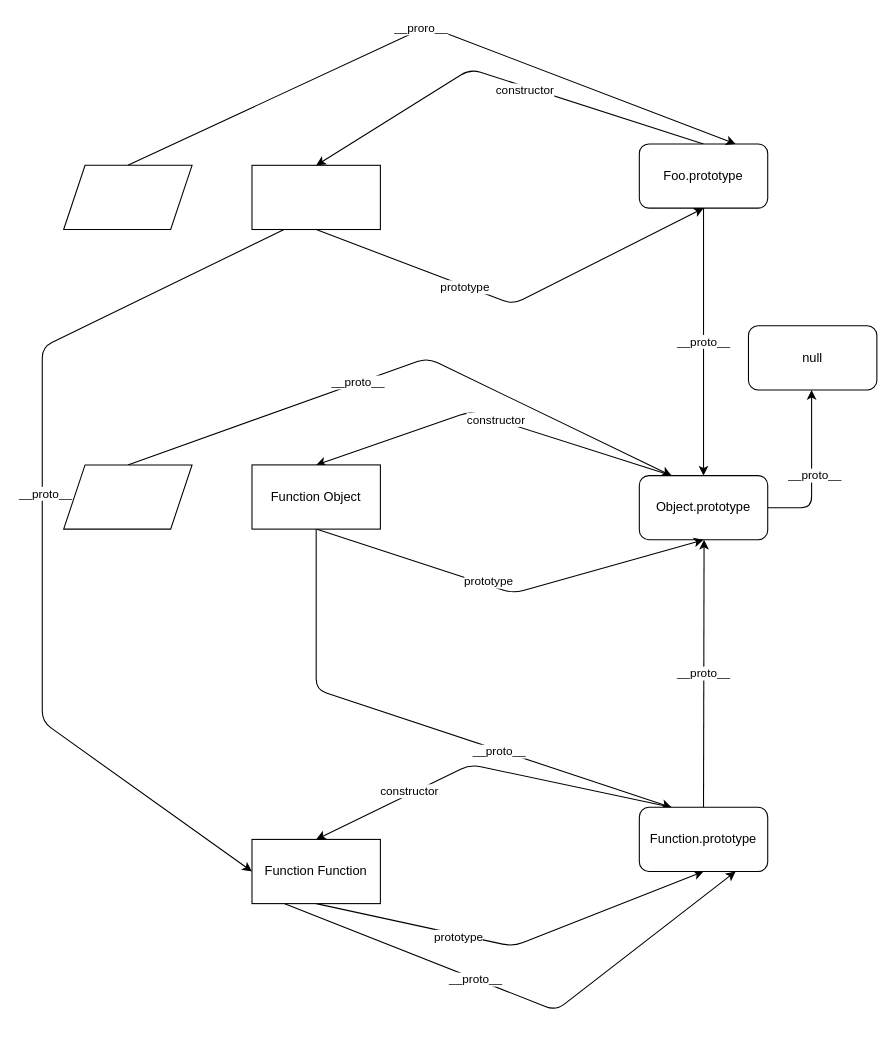
Some shapes in this 896 by 1038 pixel diagram are drawn without their labels. Here are the shapes that lost their labels. From the top down, the centre of each, then its label:
At pixel 127 197: "foo = new Foo()".
At pixel 315 197: "Function Foo".
At pixel 127 496: "obj = new Object()".
